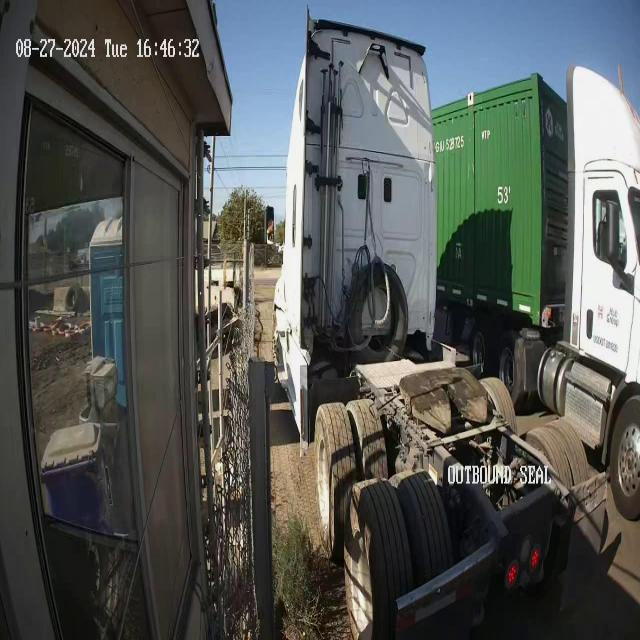CONTAINER: (431, 71, 569, 331)
